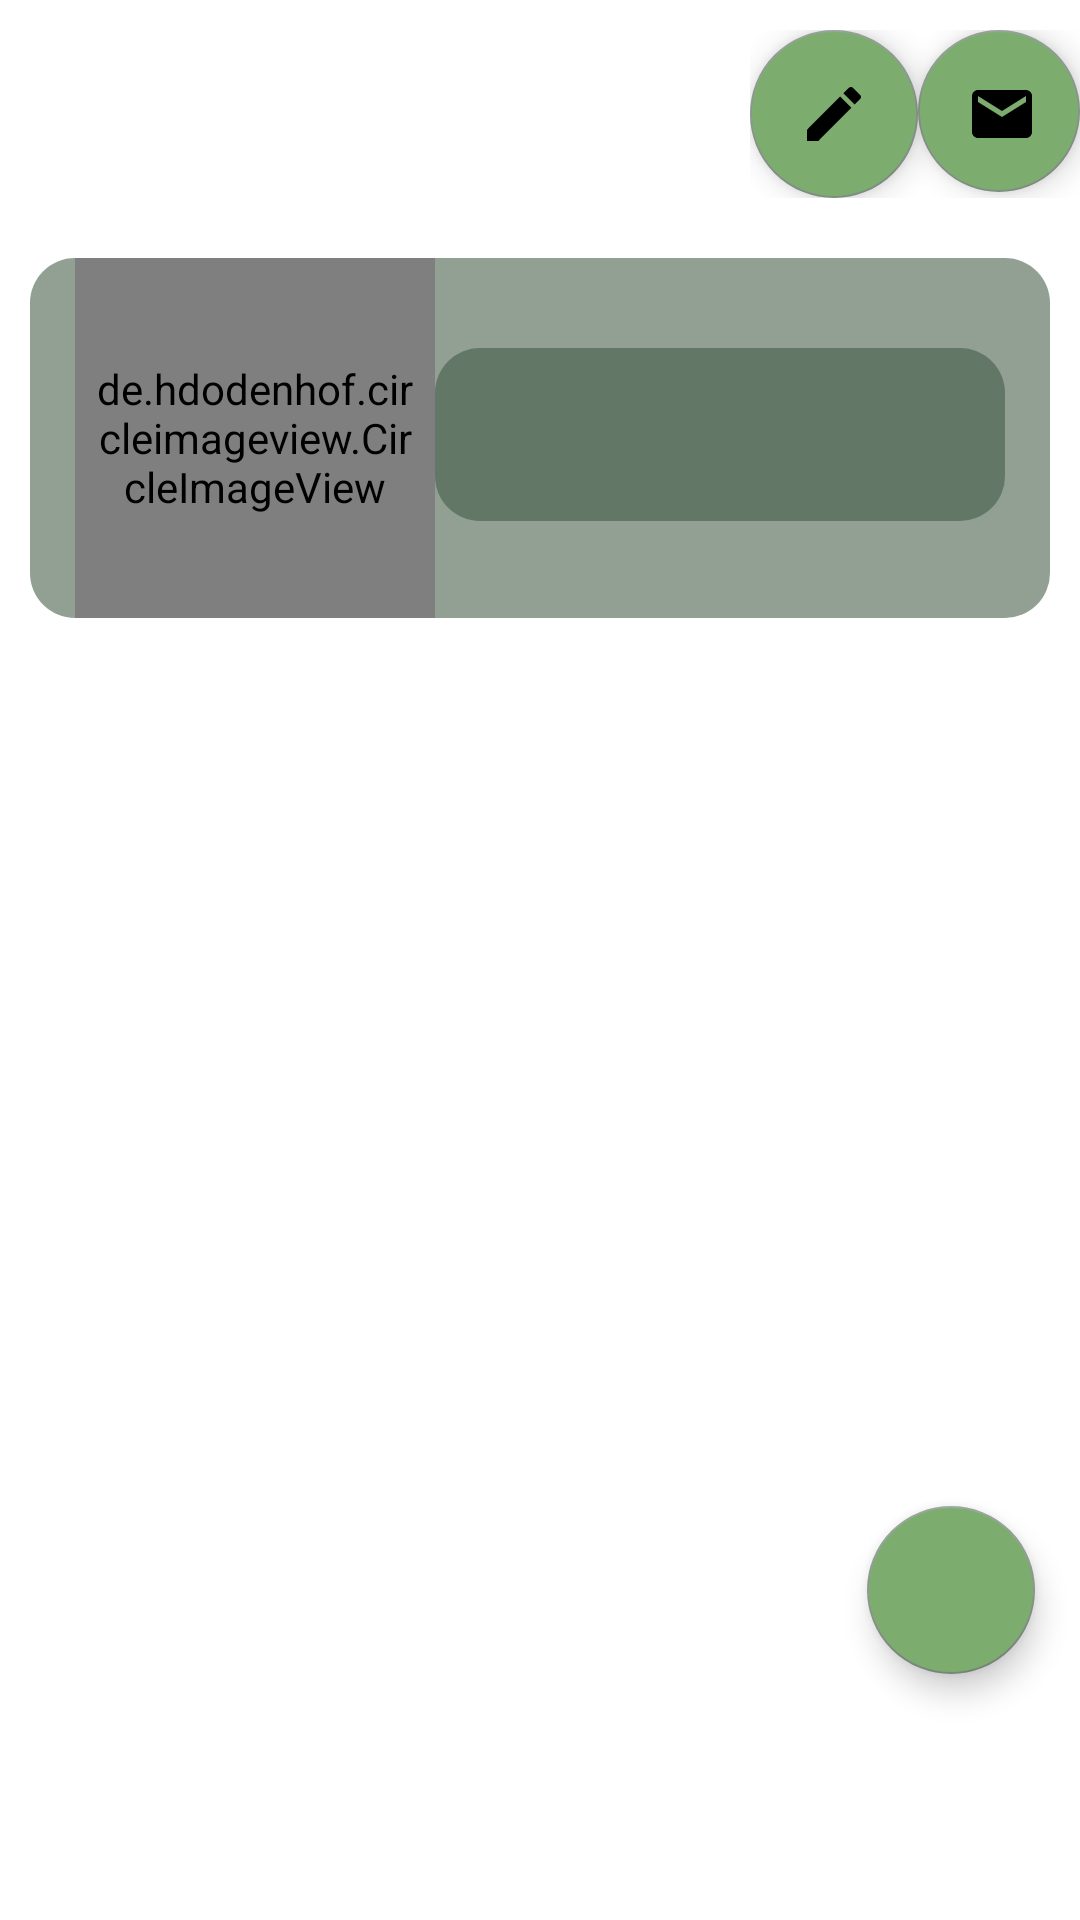

Where to tap for icons on this 1080 × 1920 app screen, as (x,y):
edit: (834,114)
email: (999,111)
